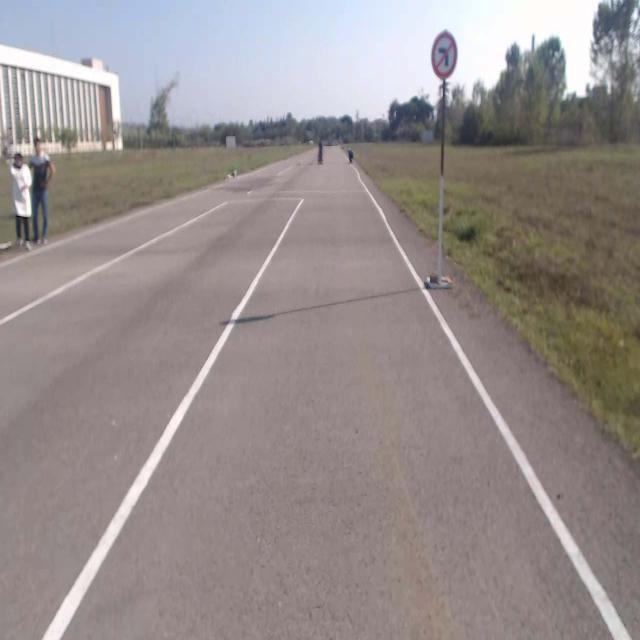soladonulmez: (432, 32, 458, 78)
